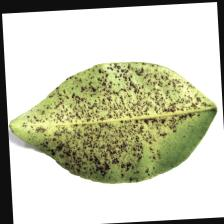canker: (38, 80, 152, 178)
